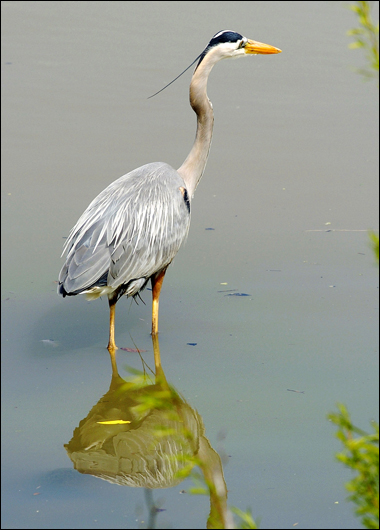heron: (58, 28, 285, 345)
